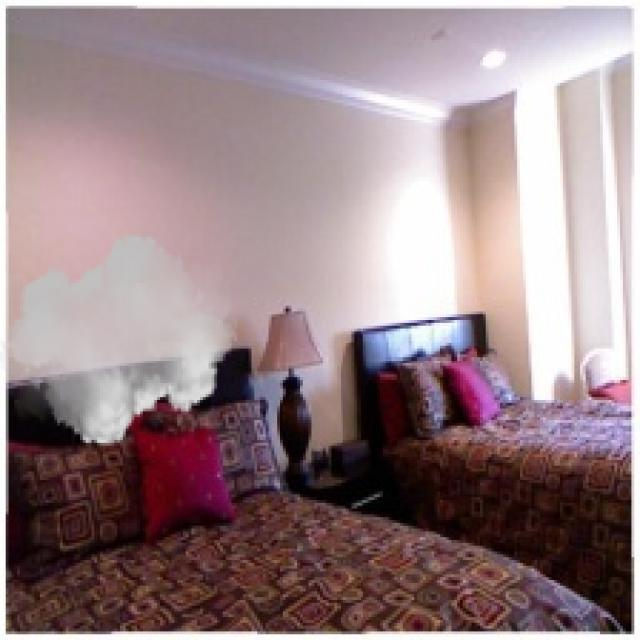Smoke: (0, 226, 237, 454)
